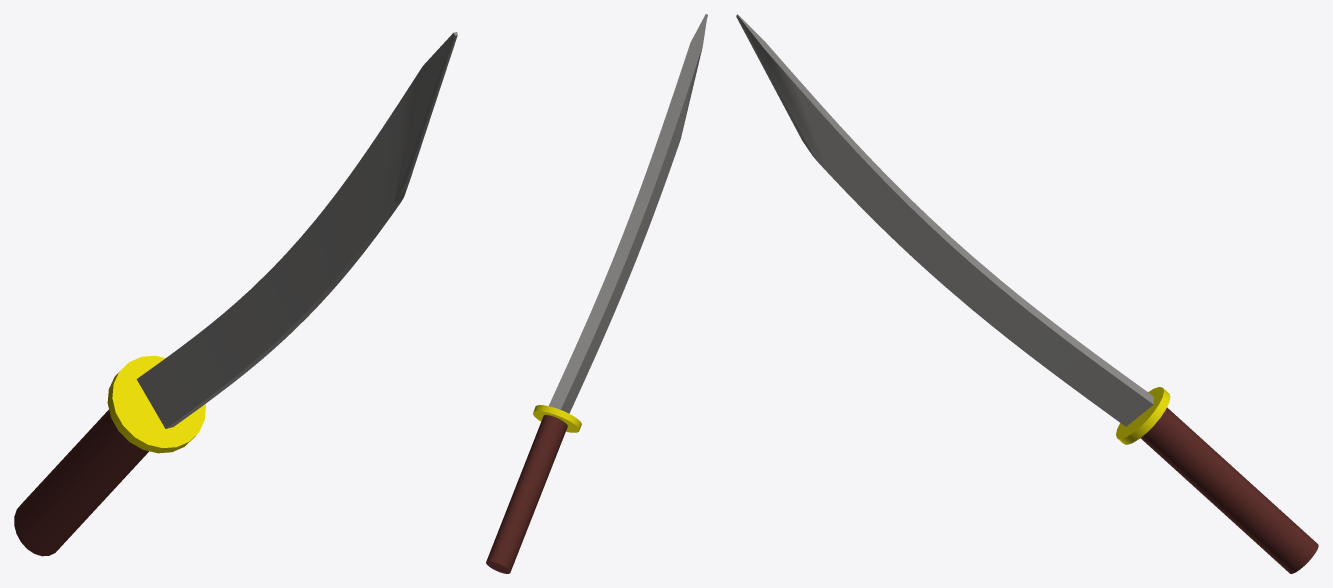
Rendered from Katana.fbx.
3 renders of one model, left to right at view 1: azimuth 30°, elevation 25°; view 2: azimuth 150°, elevation 25°; view 3: azimuth 270°, elevation 25°, orthographic. The views are drawn at different scales.
Visible parts, largest first — view 1: Sword; view 2: Sword; view 3: Sword.
Boxes of the visible parts, x1,y1,x2,y2 form: Sword: (14,32,457,556); Sword: (486,14,707,573); Sword: (736,14,1318,573).
Bounding box in the file's own units: 5.8 × 52.31 × 49.52.
